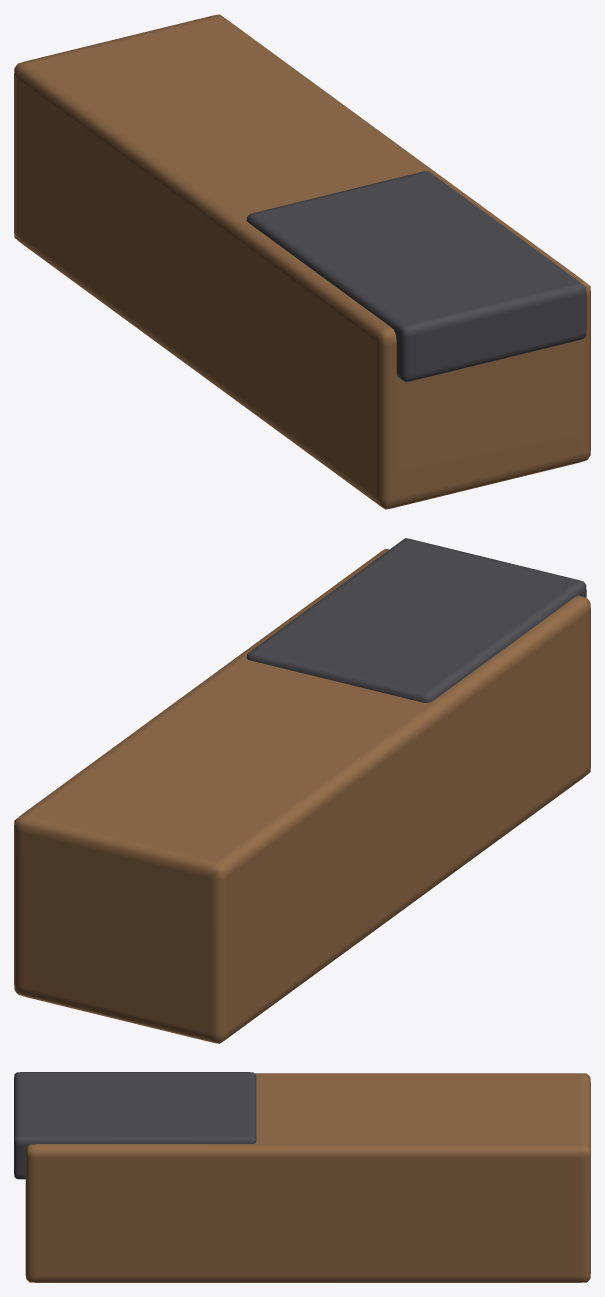
Rendered from center_console.glb.
The picture shows the model from 3 angles, top to bottom: view 1: azimuth 30°, elevation 25°; view 2: azimuth 150°, elevation 25°; view 3: azimuth 270°, elevation 25°; orthographic projection. The views are drawn at different scales.
Visible parts, largest first — view 1: CENTER_CONSOLE_BRIDGE, CONSOLE_ARMREST; view 2: CENTER_CONSOLE_BRIDGE, CONSOLE_ARMREST; view 3: CENTER_CONSOLE_BRIDGE, CONSOLE_ARMREST.
Boxes of the visible parts, x1,y1,x2,y2 form: CENTER_CONSOLE_BRIDGE: (14,14,590,509); CONSOLE_ARMREST: (246,171,586,382); CENTER_CONSOLE_BRIDGE: (14,548,590,1043); CONSOLE_ARMREST: (246,538,586,702); CENTER_CONSOLE_BRIDGE: (25,1073,590,1282); CONSOLE_ARMREST: (14,1072,256,1179).
Bounding box in the file's own units: 0.32 × 0.27 × 1.
